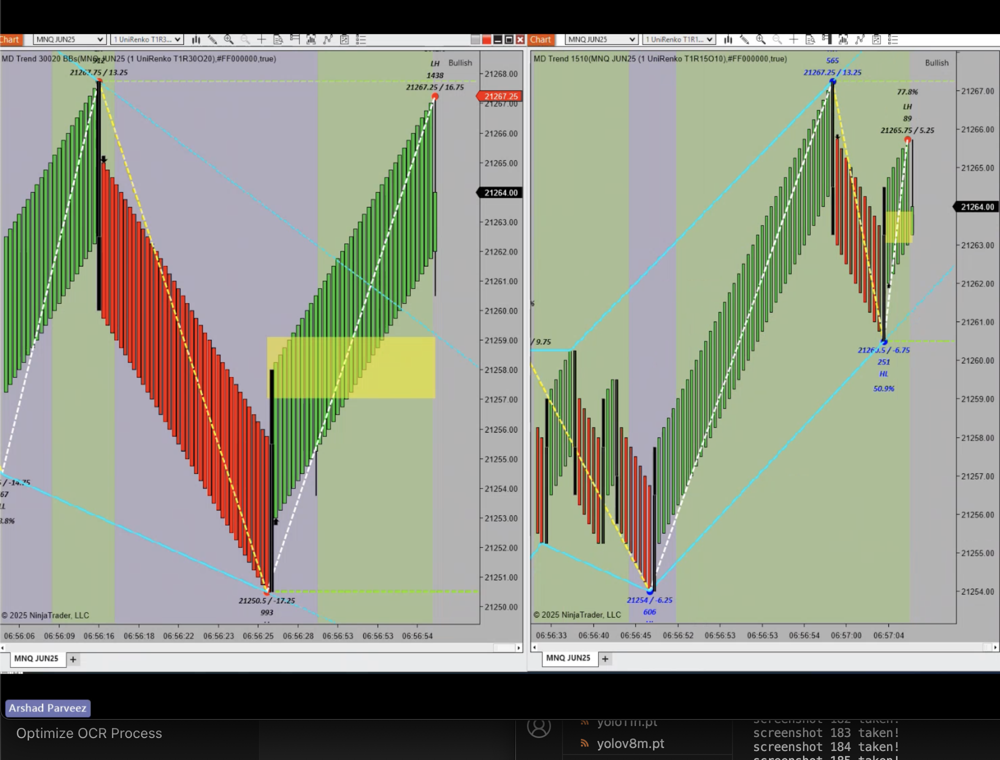HL: (873, 366, 897, 386)
LH: (897, 97, 922, 117), (423, 53, 446, 69)
